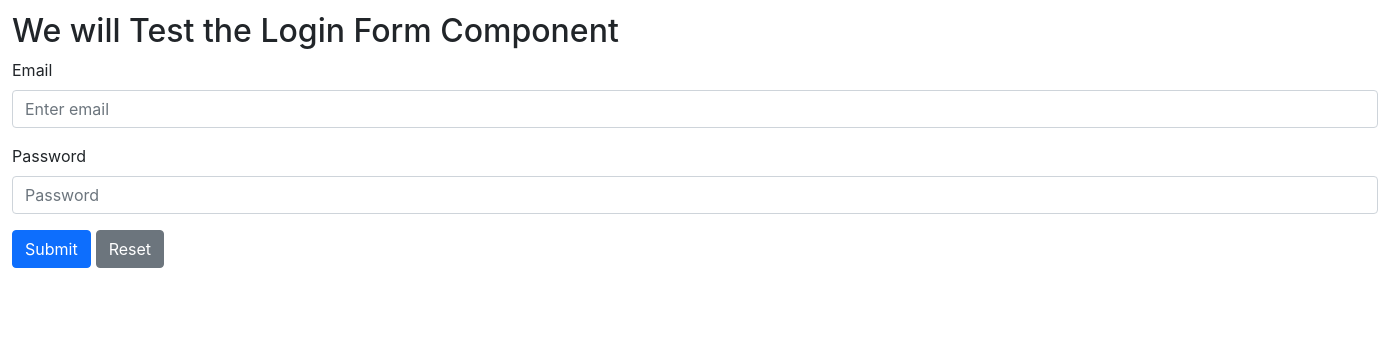
it: Test the Login Component › should display alert if error
Type "rajpaldiwaker" into the field with placeholder "Enter email".
click(695, 109); type("rajpaldiwaker")  # box [12, 90, 1378, 128]
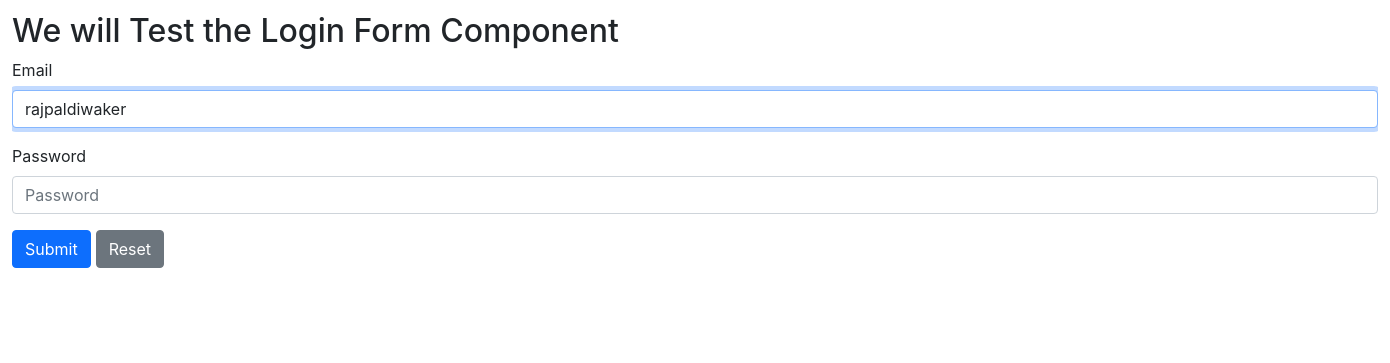
Type "ABC@123#xyz" into the password field with placeholder "Password".
click(695, 195); type("ABC@123#xyz")  # box [12, 176, 1378, 214]
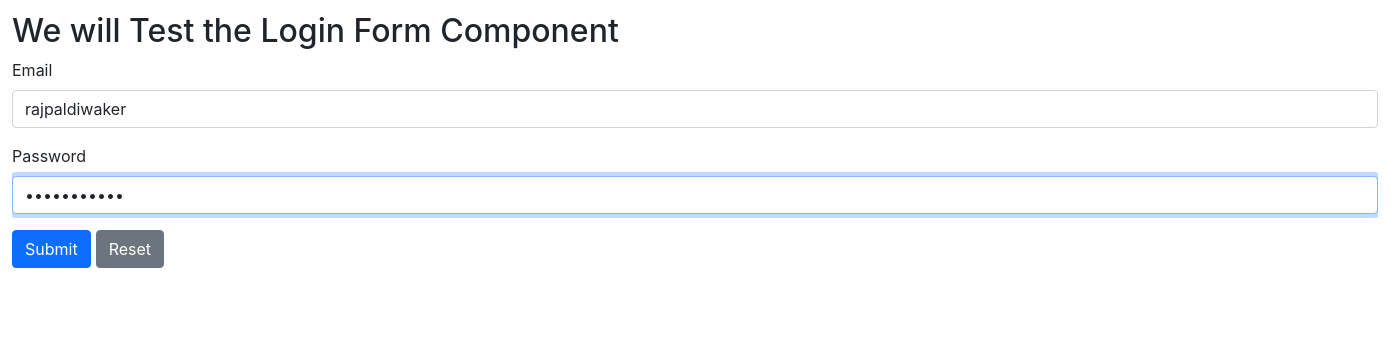
Click the button "Submit".
click(51, 249)  # box [12, 230, 91, 268]
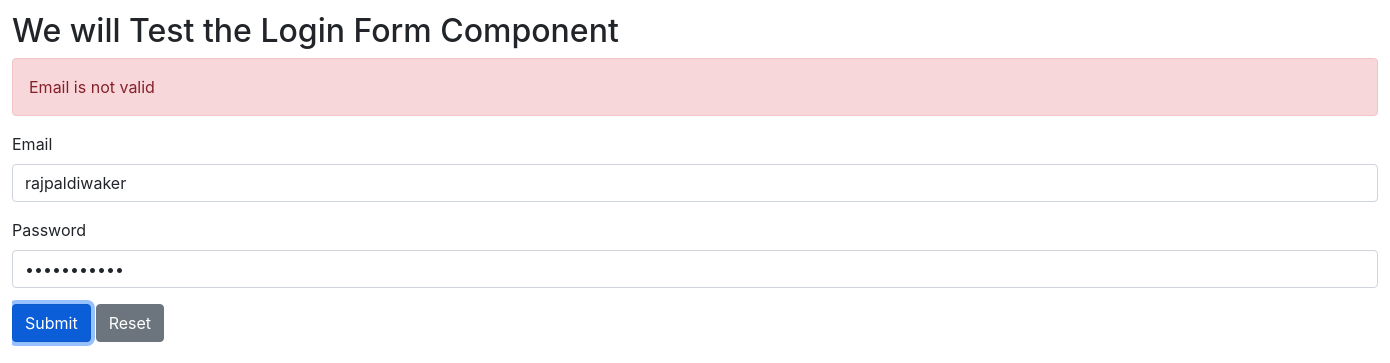
Result: the text "Email is not valid" is shown at [12, 58, 1378, 116]
